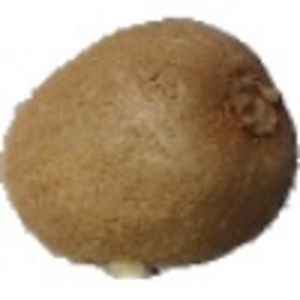kiwi: (1, 16, 300, 282)
